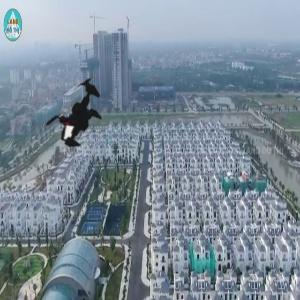drone: (21, 58, 130, 167)
